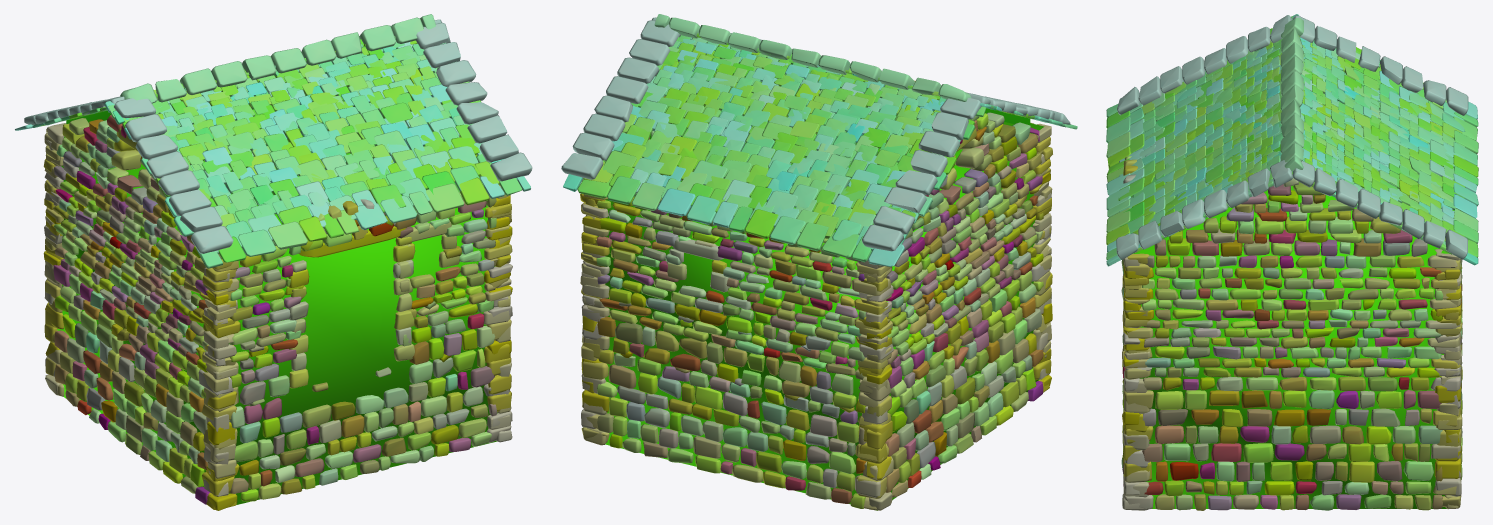
Rendered from SM_Barn_03.glb.
3 renders of one model, left to right at view 1: azimuth 30°, elevation 25°; view 2: azimuth 150°, elevation 25°; view 3: azimuth 270°, elevation 25°, orthographic. The views are drawn at different scales.
Visible parts, largest first — view 1: SM_Barn_03; view 2: SM_Barn_03; view 3: SM_Barn_03.
Part boxes in pixels (bbox=[...]): SM_Barn_03: bbox=[15, 14, 532, 510]; SM_Barn_03: bbox=[561, 14, 1077, 510]; SM_Barn_03: bbox=[1106, 14, 1478, 510].
Bounding box in the file's own units: 6.78 × 6.95 × 6.61.
